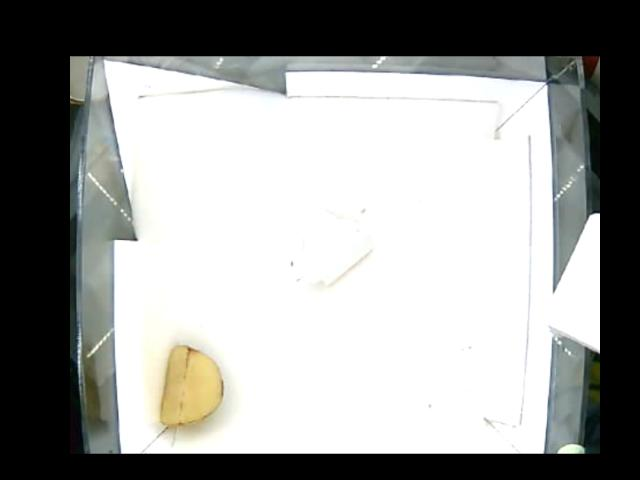China: (282, 202, 374, 298)
Potato: (157, 343, 224, 425)
